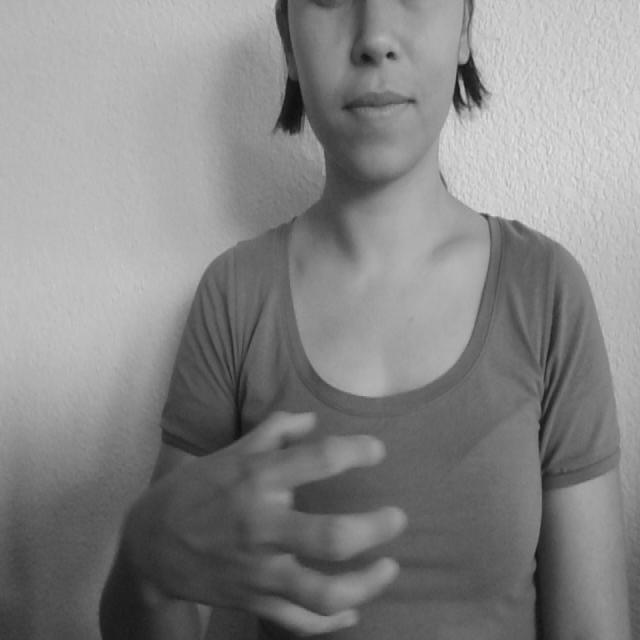Anne: (78, 393, 561, 640)
